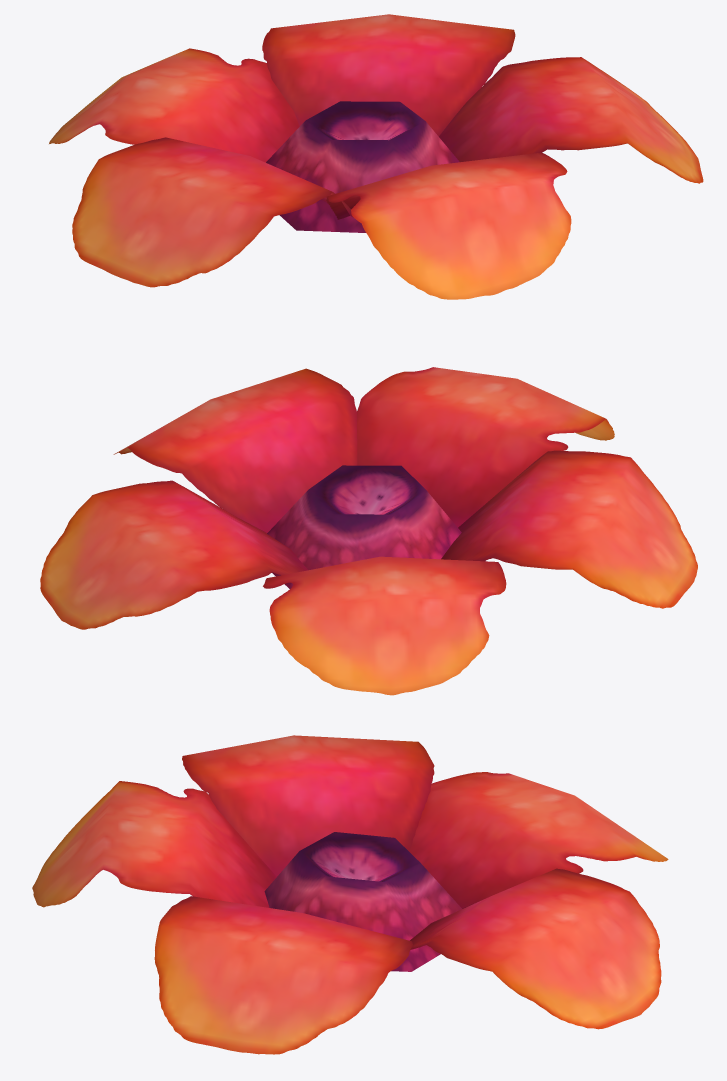
The model's file is Yegesl_zhiwu02.FBX.
3 views of the same model, one above another, from view 1: azimuth 30°, elevation 25°; view 2: azimuth 150°, elevation 25°; view 3: azimuth 270°, elevation 25° (orthographic). The views are drawn at different scales.
Visible parts, largest first — view 1: Yegesl_zhiwu02; view 2: Yegesl_zhiwu02; view 3: Yegesl_zhiwu02.
Part boxes in pixels (bbox=[...]): Yegesl_zhiwu02: bbox=[49, 14, 703, 299]; Yegesl_zhiwu02: bbox=[40, 367, 697, 695]; Yegesl_zhiwu02: bbox=[32, 735, 668, 1054].
Bounding box in the file's own units: 45.47 × 44.7 × 7.19.
